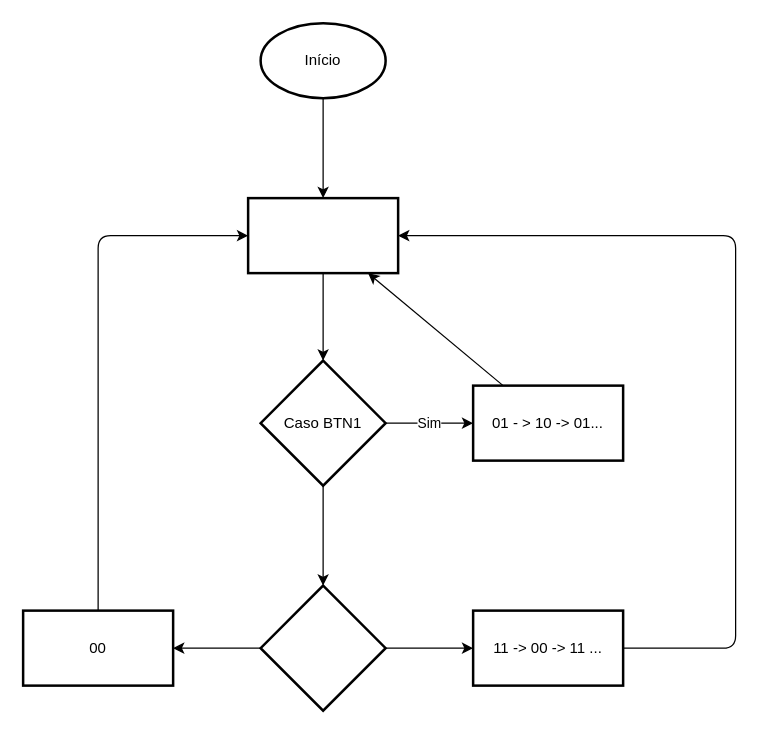
Some shapes in this 768 by 733 pixel diagram are drawn without their labels. Each missing label, with the box of its shape:
Caso BTN2: (259, 584, 386, 711)
Lê estados dos BTNs: (246, 196, 399, 274)
